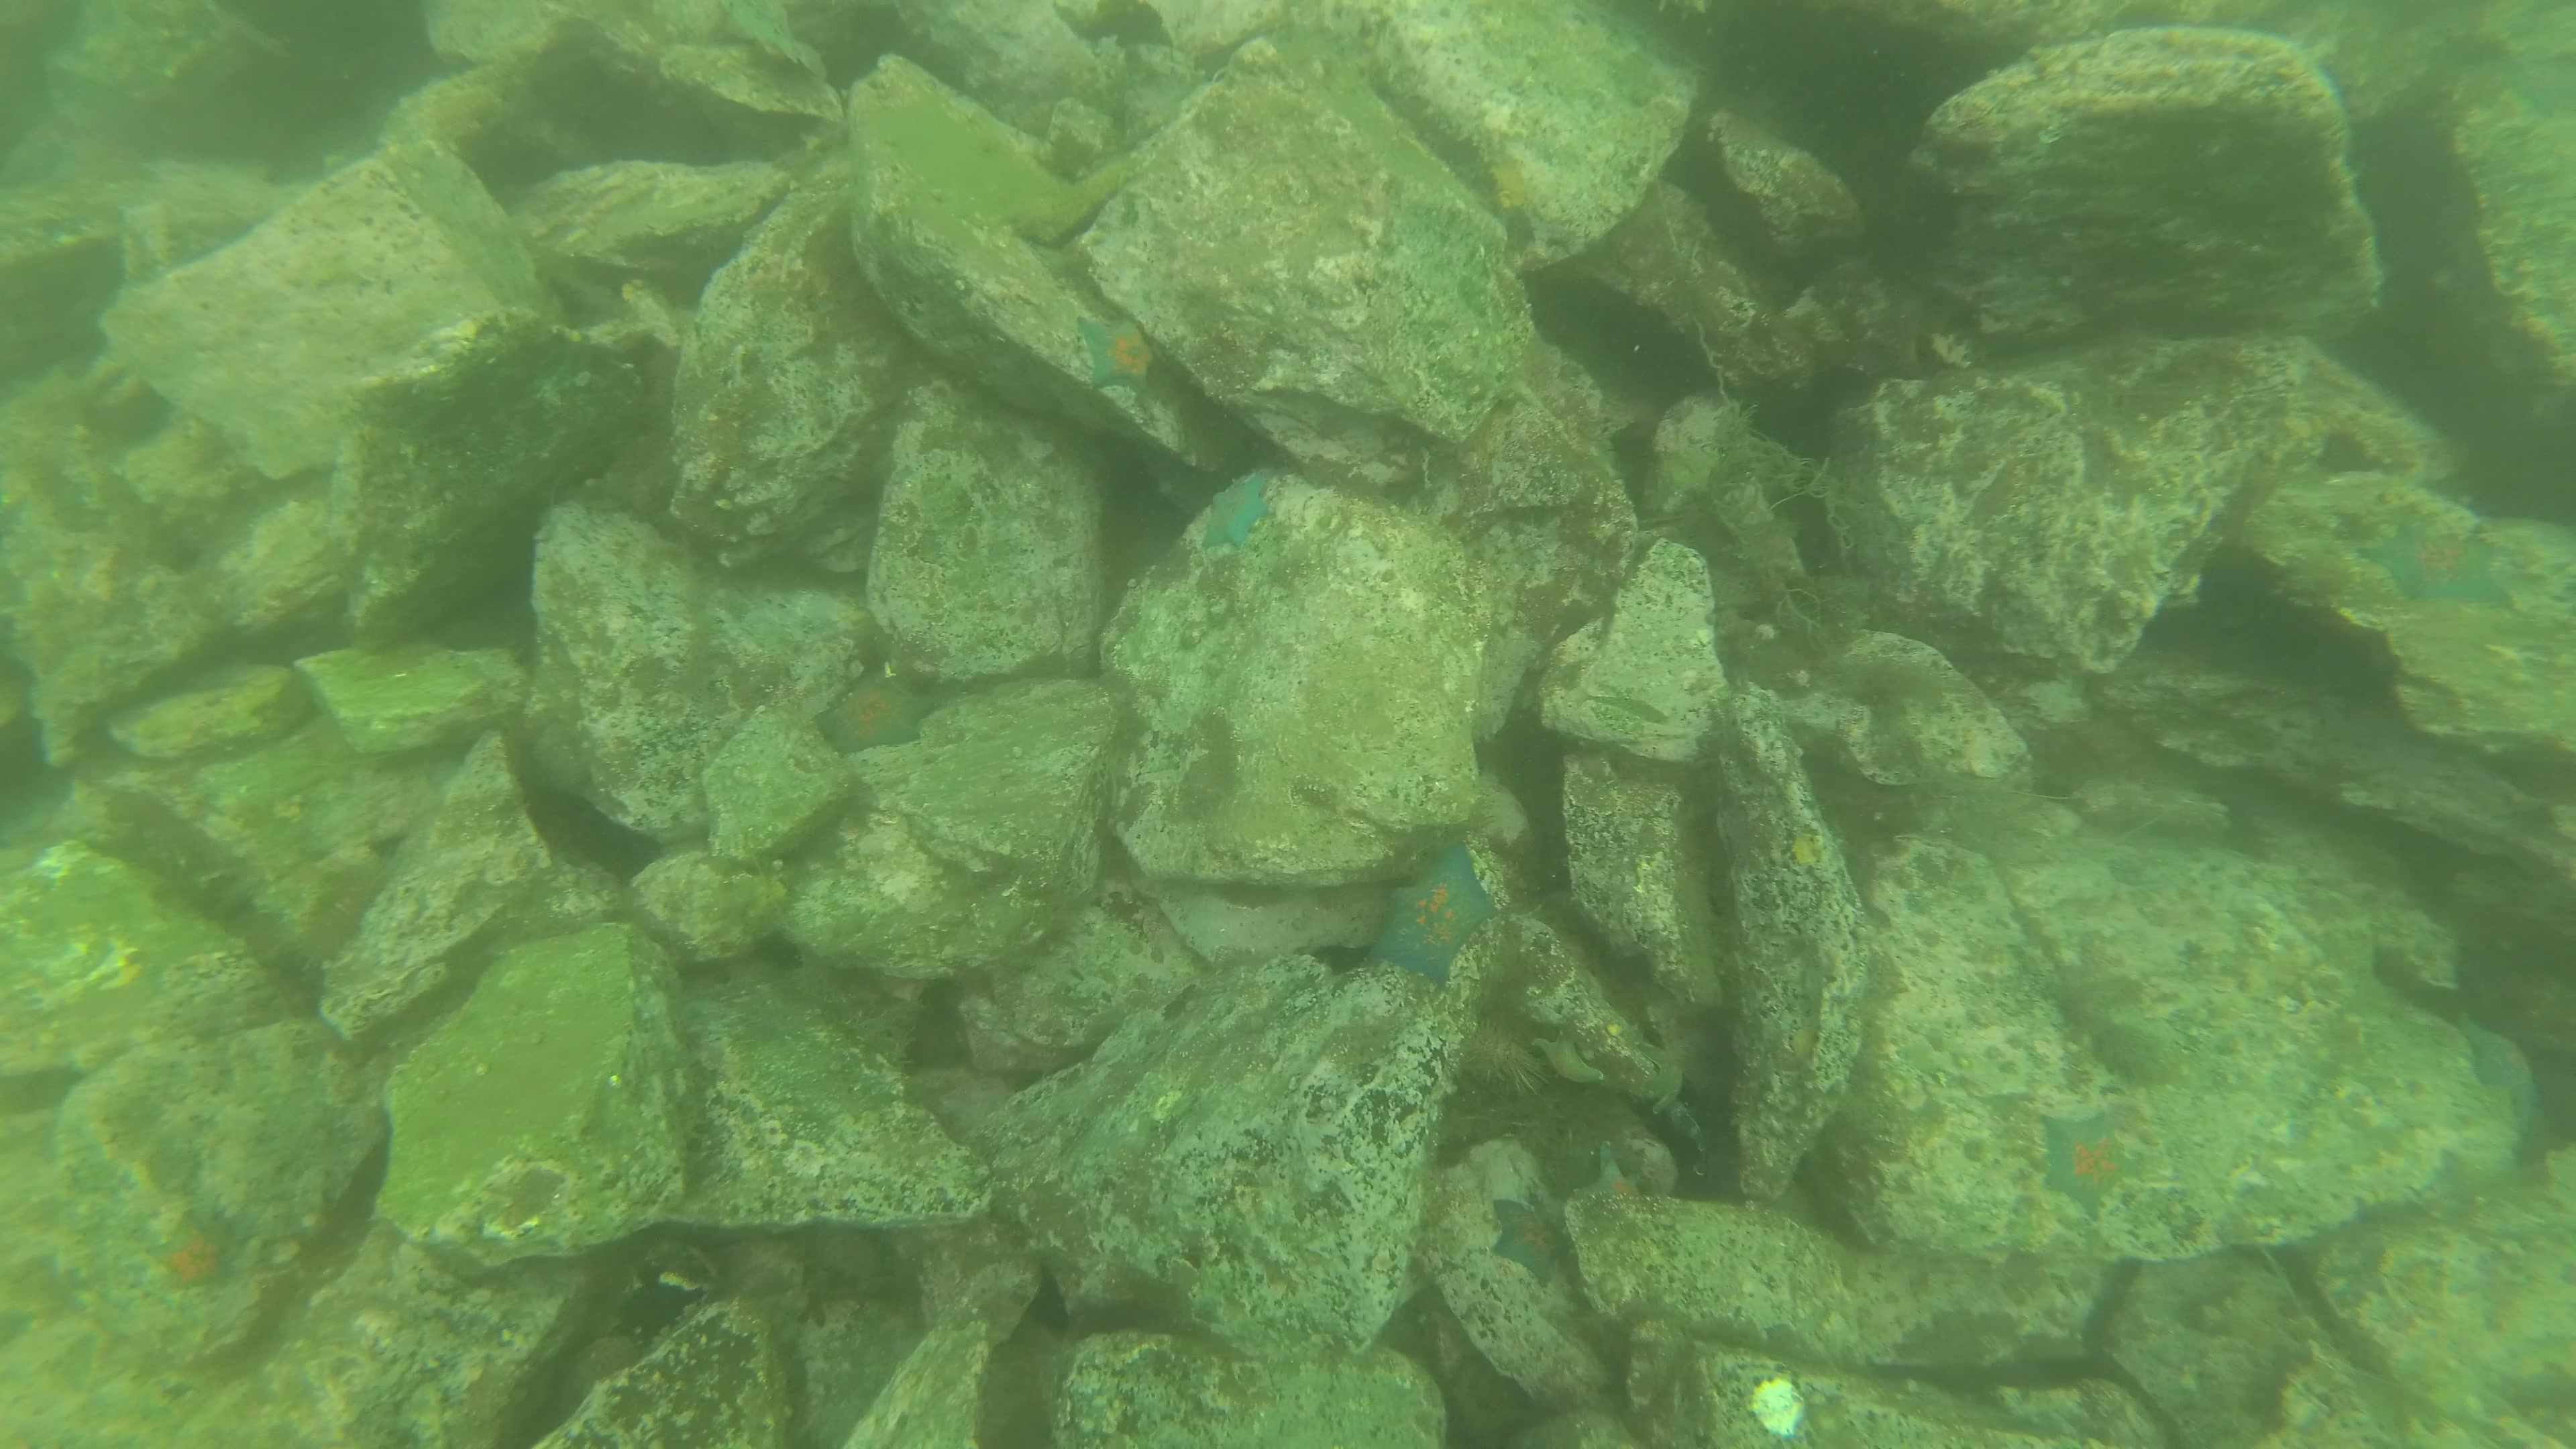echinus: (1454, 1016, 1553, 1092)
starfish: (1369, 842, 1497, 989), (2357, 517, 2514, 612), (2031, 1111, 2139, 1221), (812, 672, 934, 755), (2454, 1016, 2541, 1115), (1072, 308, 1159, 400), (150, 1210, 239, 1297), (1490, 1203, 1571, 1288), (1200, 465, 1272, 556), (1587, 1141, 1647, 1203)
